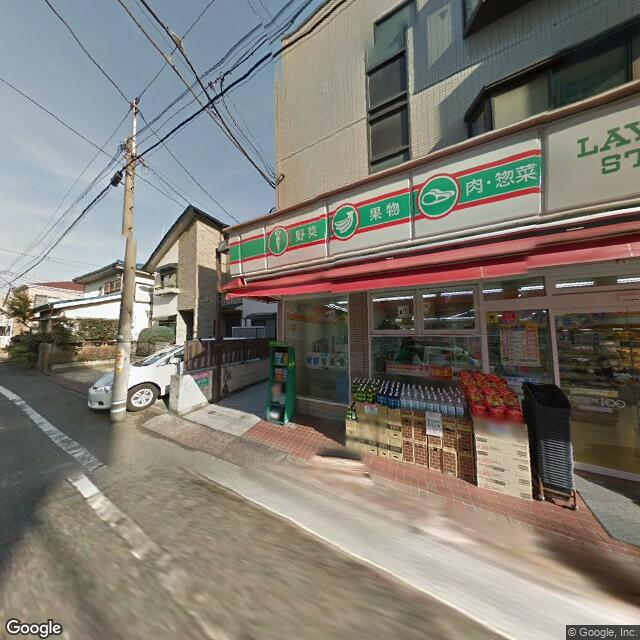lawson: (231, 101, 638, 279)
